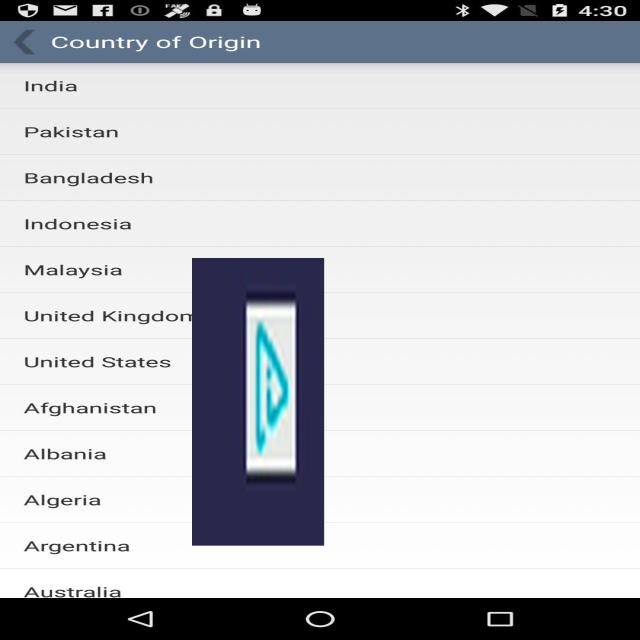sneaking: (192, 258, 324, 546)
